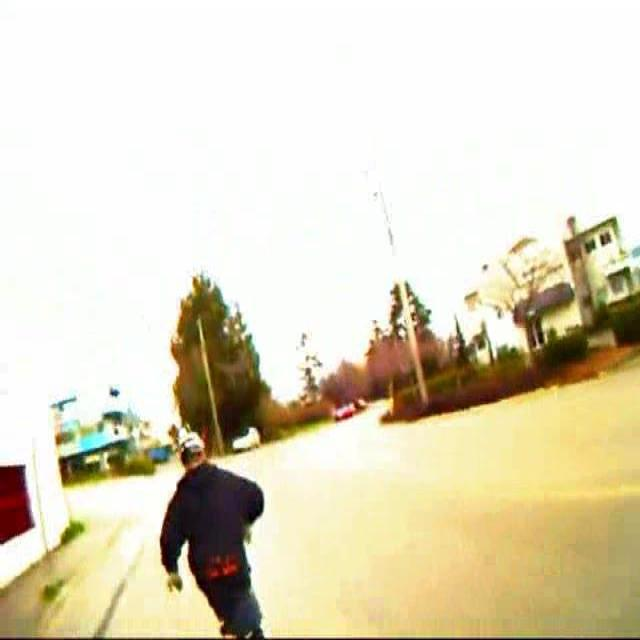other: (272, 398, 422, 498), (60, 468, 165, 513)
